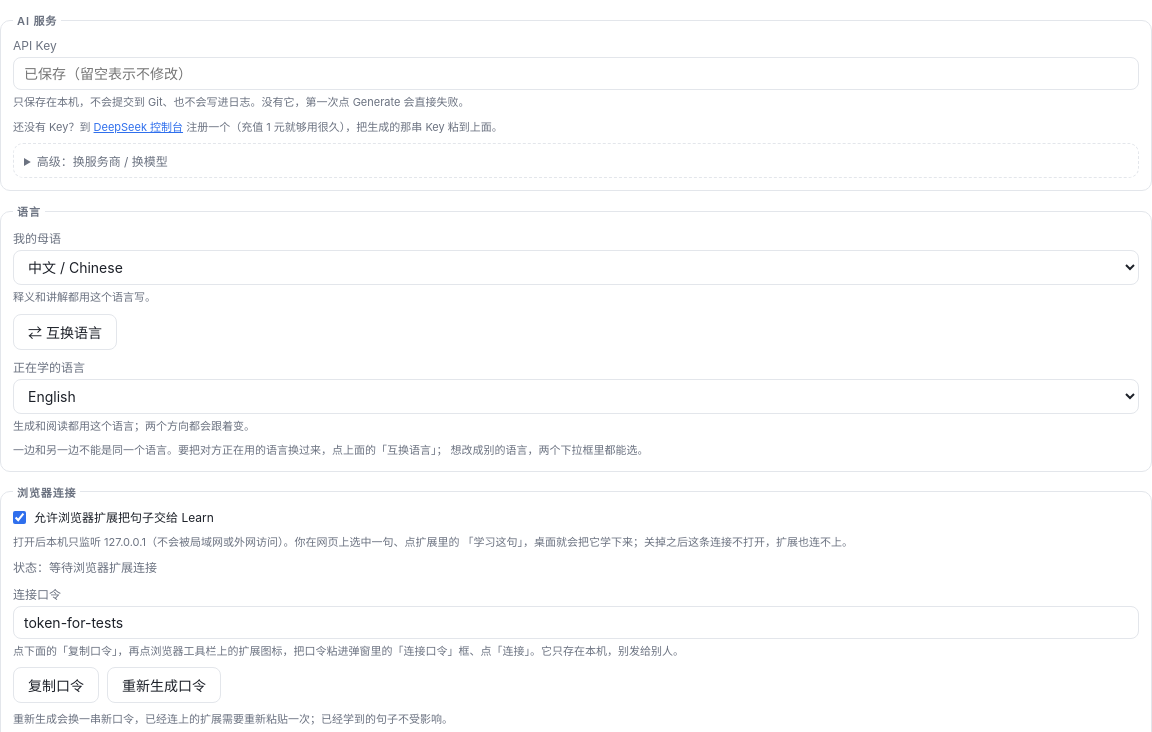
Test: SettingsForm › says the token was copied instead of leaving the button silent
Click the button "复制口令" at (56, 685), box [13, 667, 99, 703]
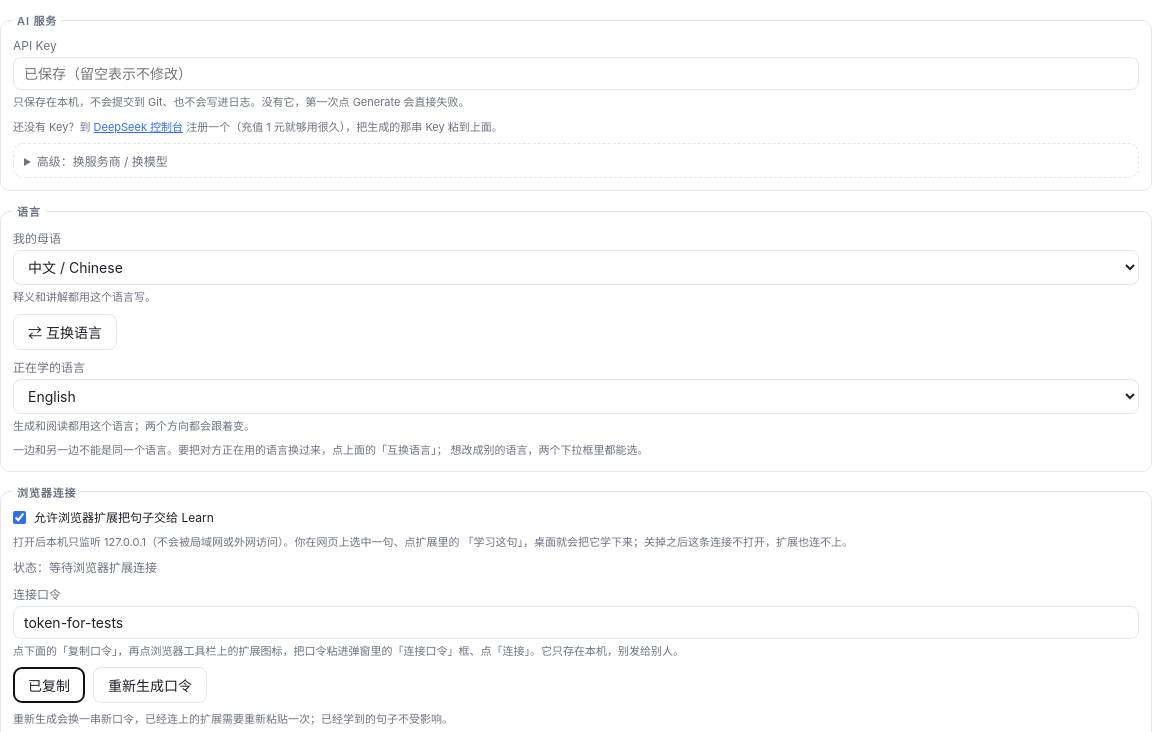
Expected: the button "已复制" is shown, [13, 667, 85, 703]
